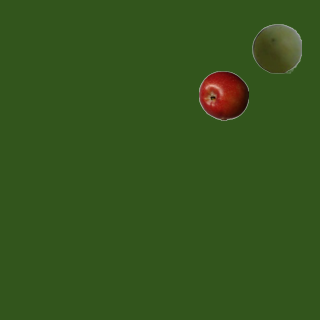Apple Braeburn: (198, 70, 248, 120)
Grape White 4: (251, 23, 301, 73)
